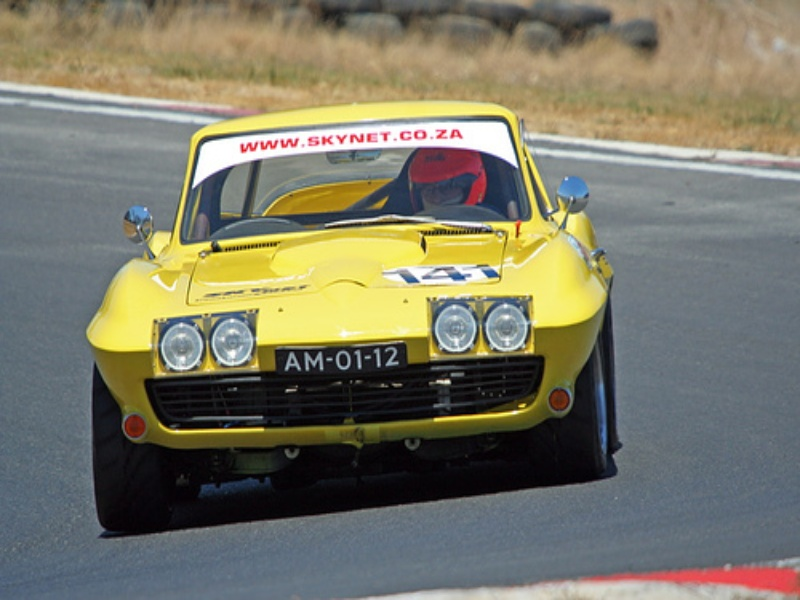car: (86, 101, 619, 541)
person: (408, 148, 486, 210)
